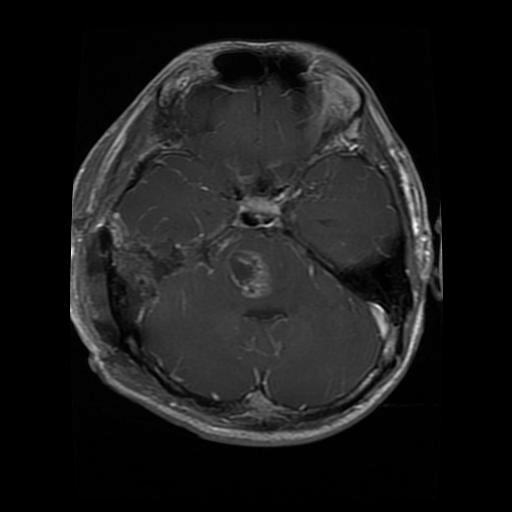Tumour-Glioma: (219, 238, 280, 311)
